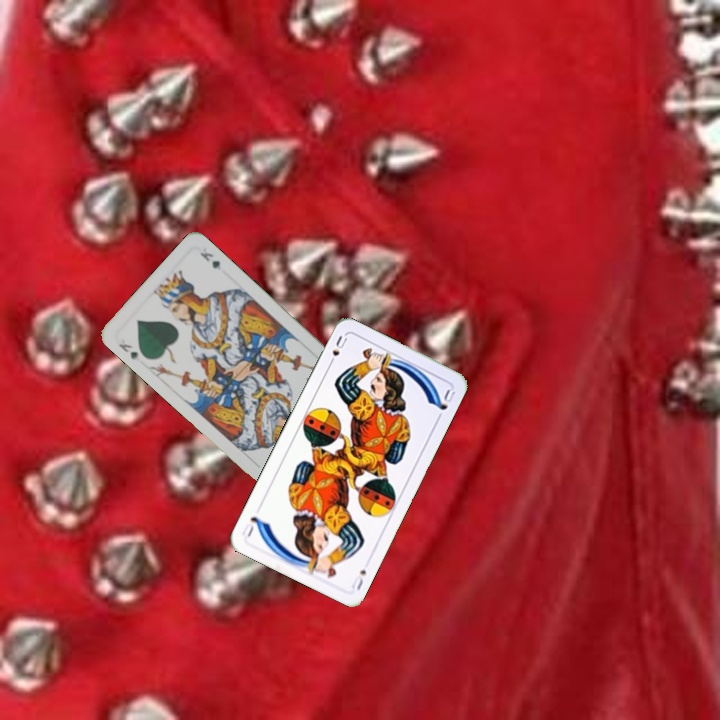GK: (114, 339, 141, 363)
SU: (325, 331, 350, 369), (347, 566, 369, 593)
